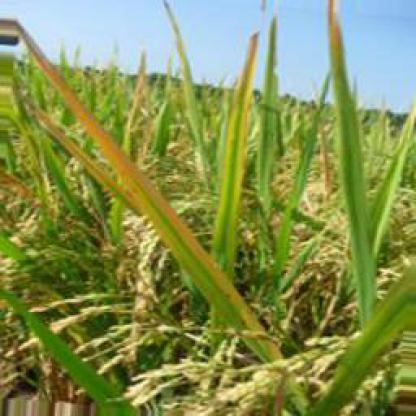Tungro: (32, 40, 248, 331), (217, 22, 269, 263), (323, 3, 348, 73)
